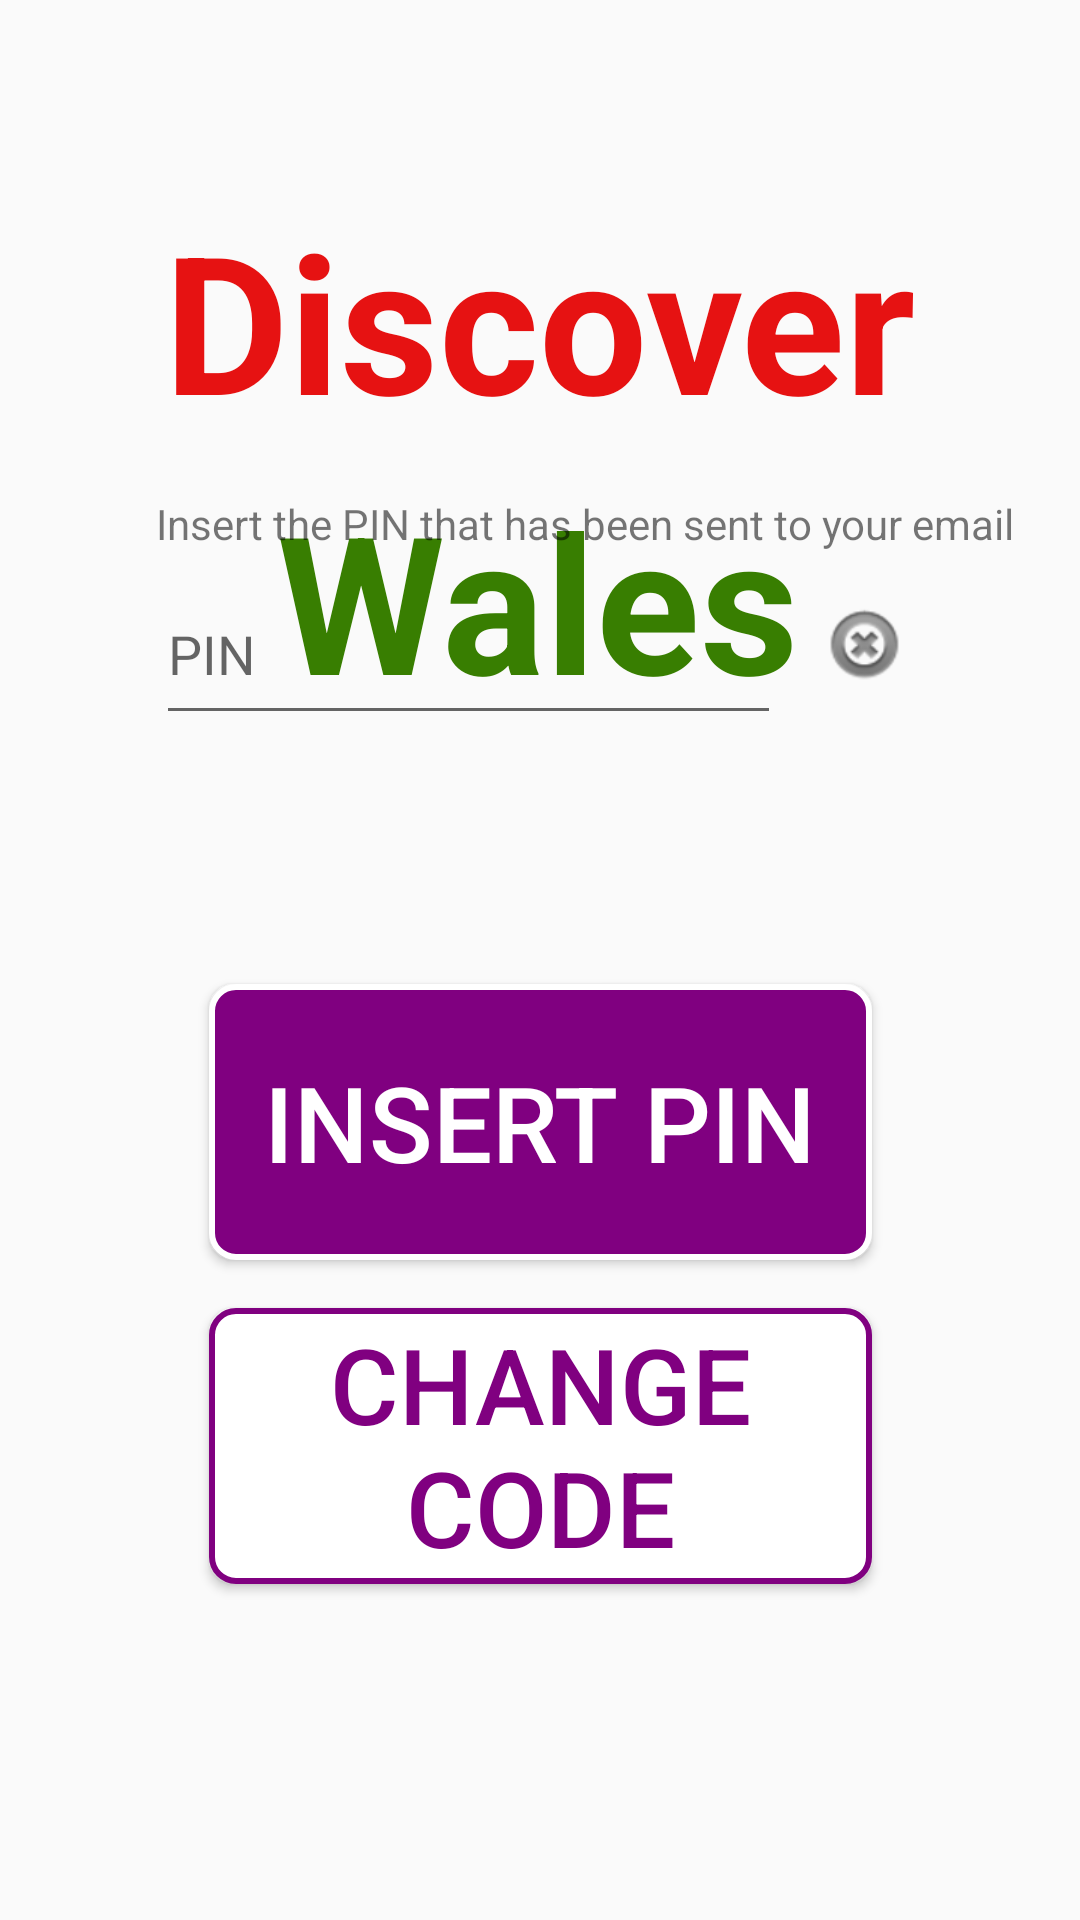

Locate icon controls on the screen. Image size 1080*1920, boxes as (x1, y1, x2, y2).
notification clear all: (830, 610, 899, 678)
